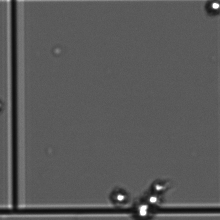Living Cell: (203, 1, 220, 20), (113, 190, 126, 204), (151, 179, 165, 191), (147, 194, 160, 204)
